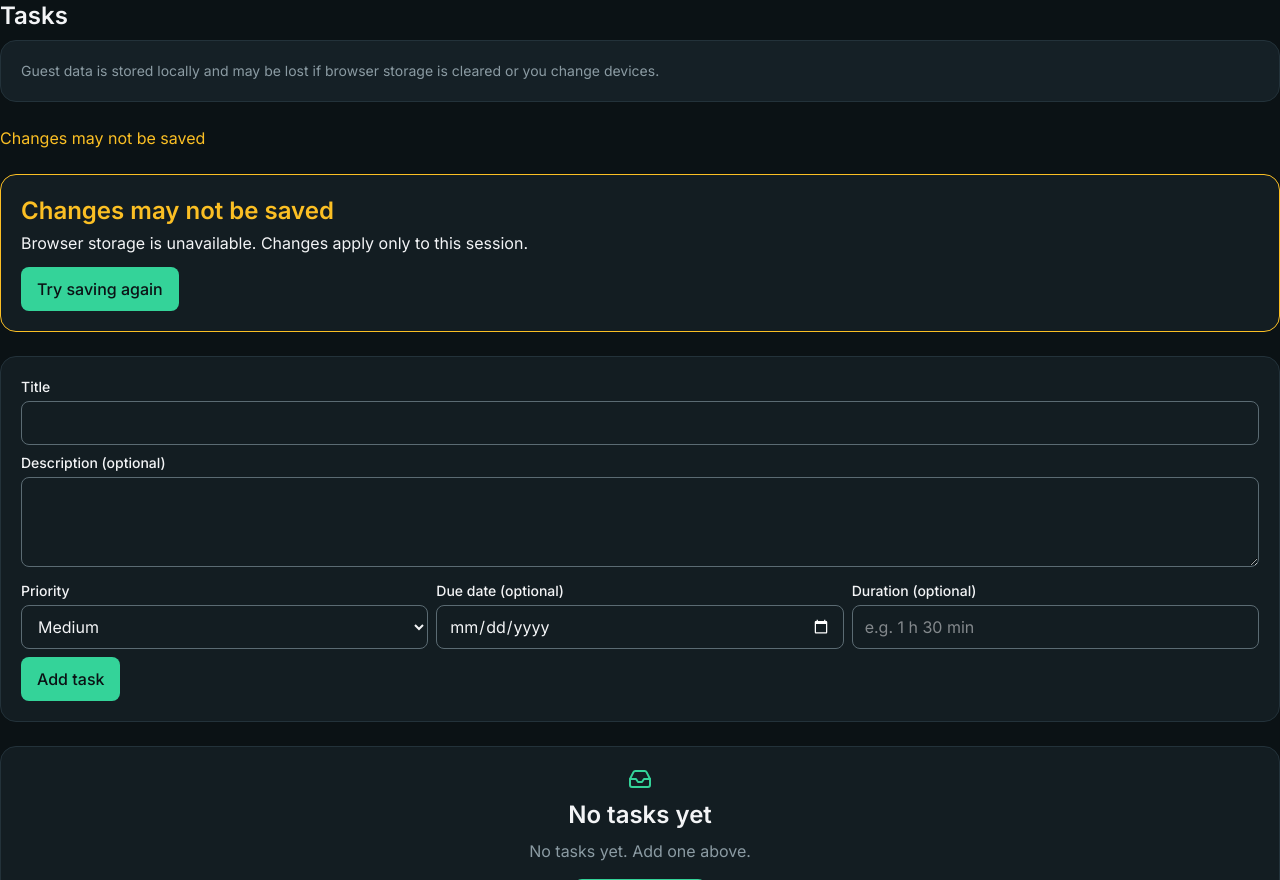
Scenario: task page states › keeps in-memory task operations available when storage is unavailable
Expected: the heading "Changes may not be saved" is shown, [21, 196, 334, 225]
Expected: the 2nd message shows "only to this session", [21, 233, 528, 253]
Type "Offline task" into the field labelled "Title" at (640, 423), box [21, 401, 1259, 445]
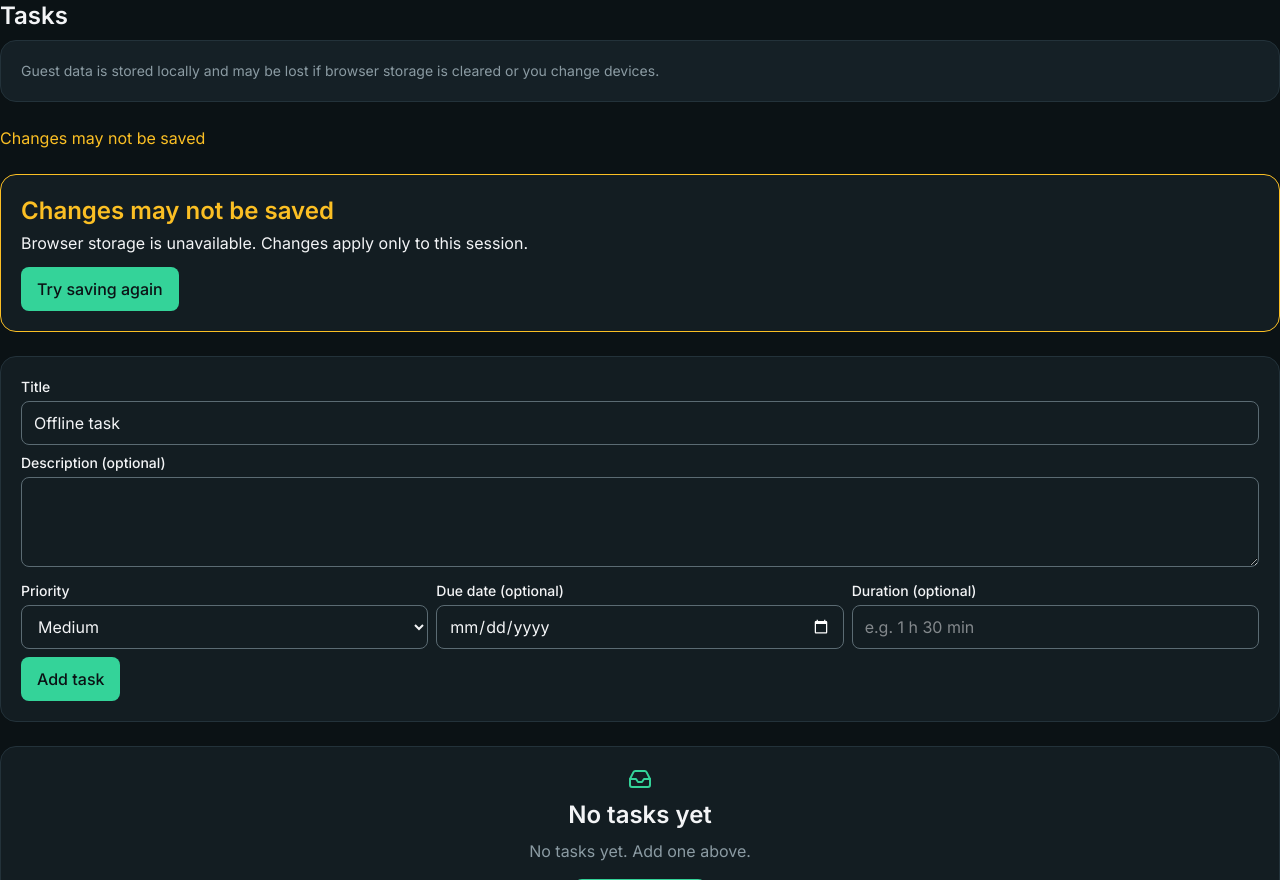
Click the button "Add task" at (71, 679), box [21, 657, 120, 701]
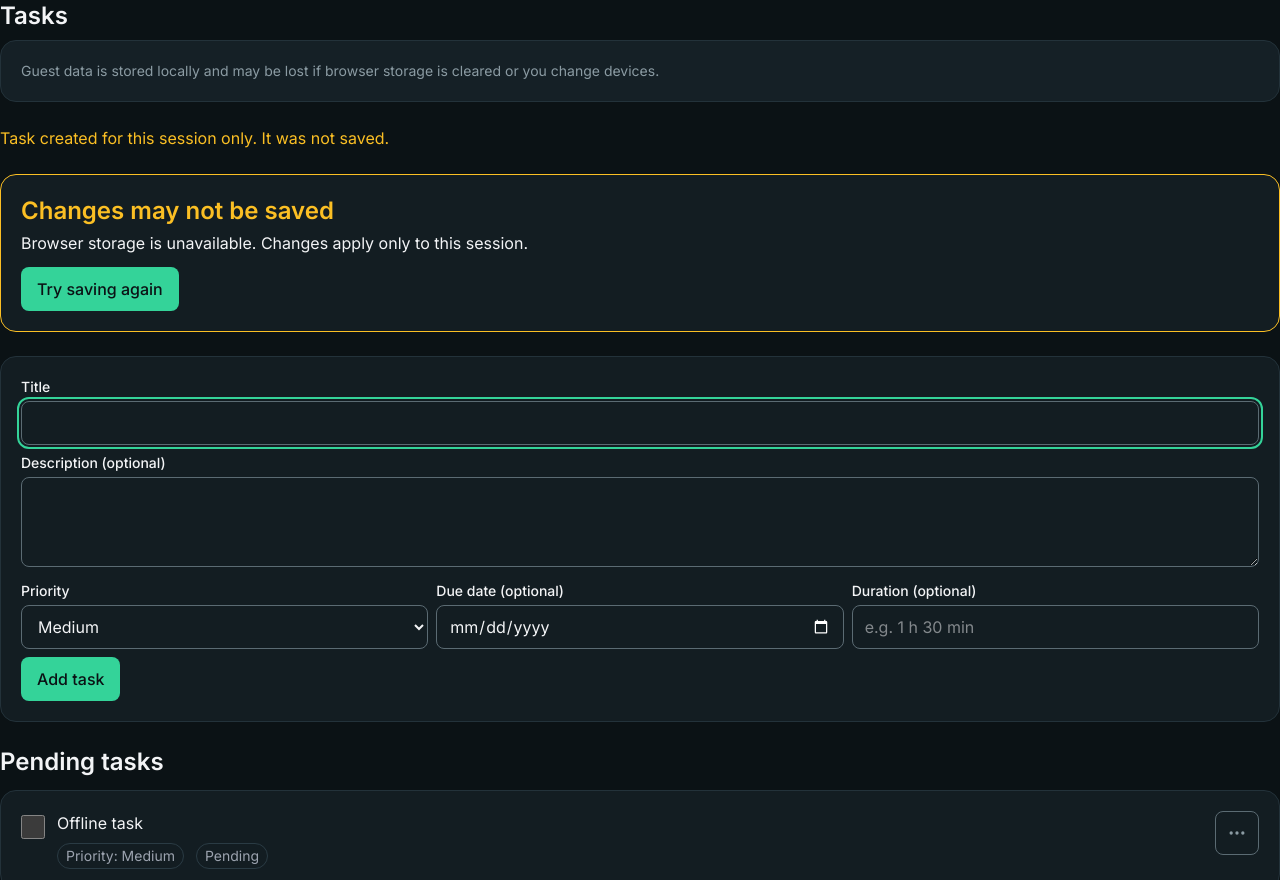
Expected: the text "Offline task" is shown, [57, 813, 143, 833]
Expected: the message "Task created for this session only. It was not saved." is shown, [0, 128, 389, 148]
